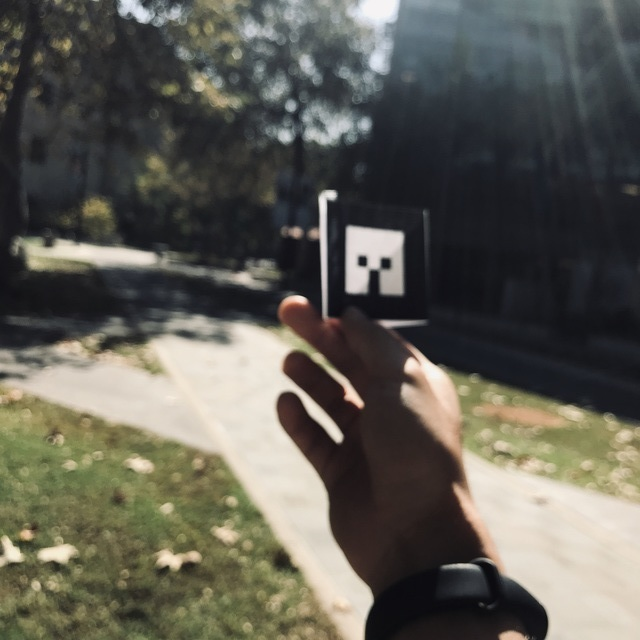ARTag: (319, 190, 432, 329)
